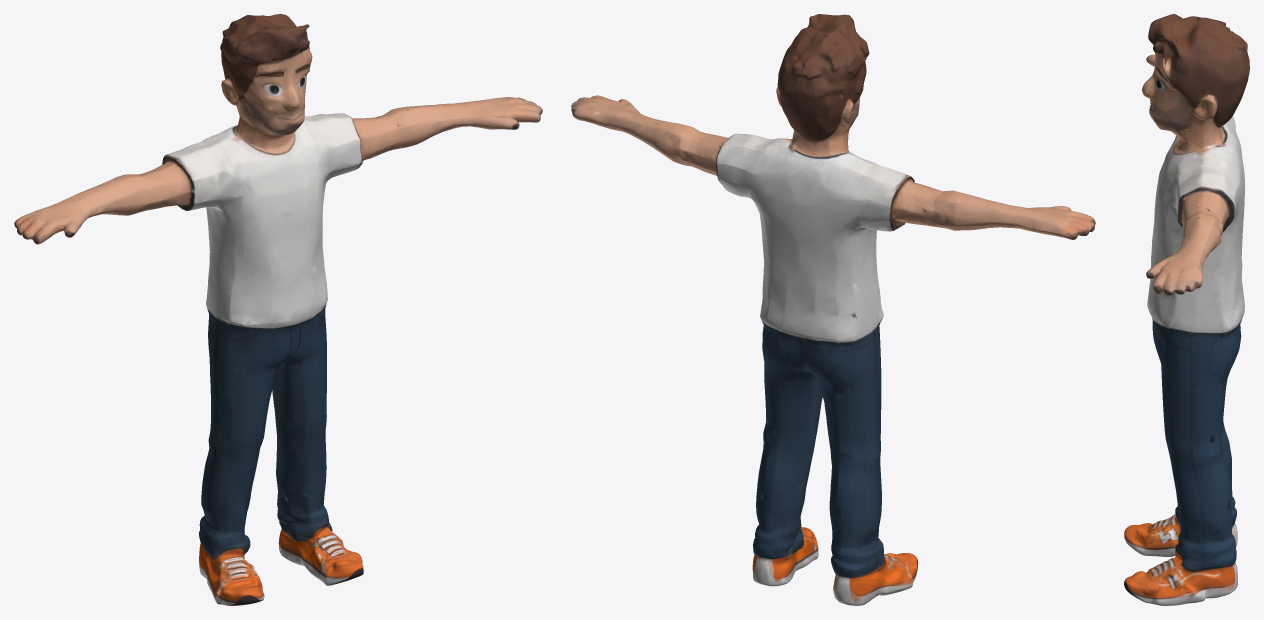
File: Avatar3.glb
The picture shows the model from 3 angles, left to right: view 1: azimuth 30°, elevation 25°; view 2: azimuth 150°, elevation 25°; view 3: azimuth 270°, elevation 25°; orthographic projection.
Bounding box in the file's own units: 1.94 × 2 × 0.4123.
Materials: 1 (1 with a texture image).
